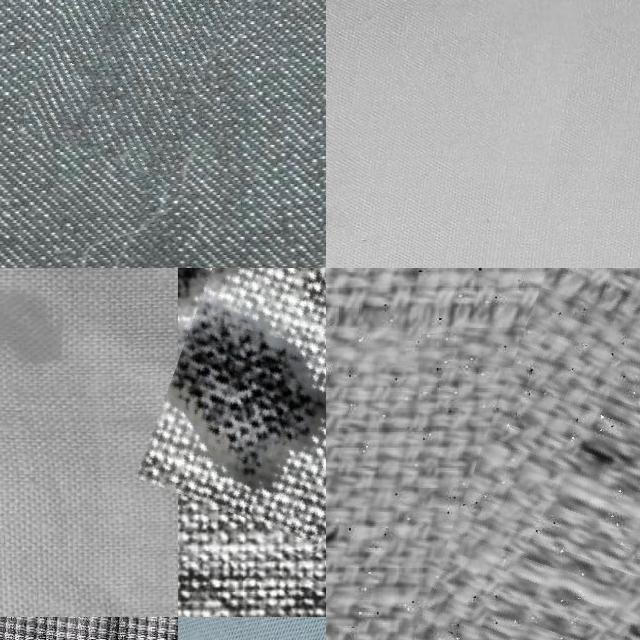Hole: (156, 268, 326, 532), (0, 268, 146, 413)
Thread_other: (428, 268, 640, 640), (50, 0, 271, 175)
